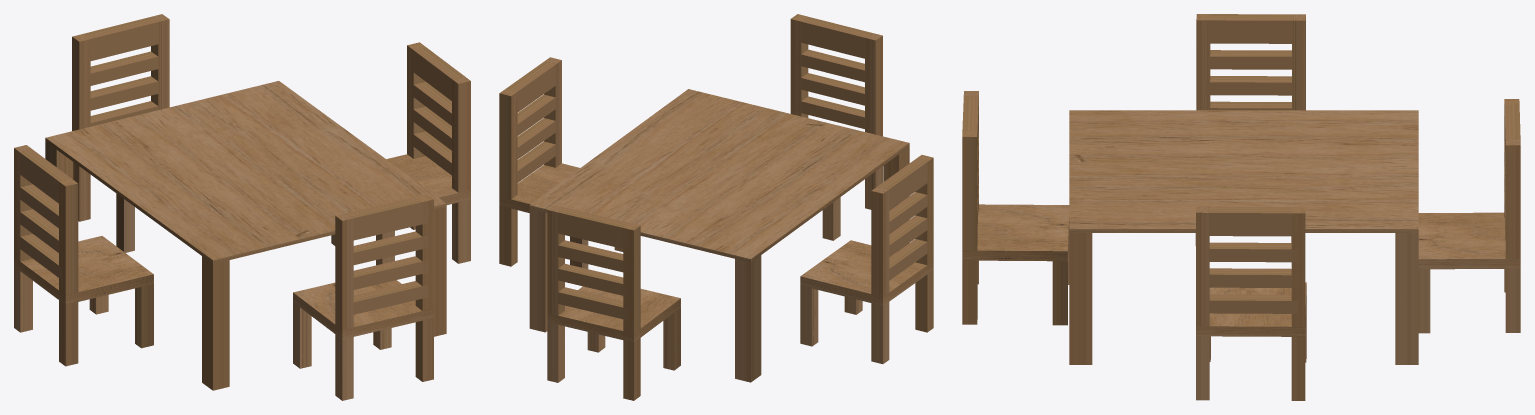
The model's file is Dining_Table.glb.
3 renders of one model, left to right at view 1: azimuth 30°, elevation 25°; view 2: azimuth 150°, elevation 25°; view 3: azimuth 270°, elevation 25°, orthographic. The views are drawn at different scales.
Parts seen in each view (by area): view 1: Cube, Cube.003, Cube.004, Cube.001, Cube.002; view 2: Cube, Cube.002, Cube.004, Cube.001, Cube.003; view 3: Cube, Cube.001, Cube.003, Cube.002, Cube.004.
Boxes of the visible parts, bbox=[...] form: Cube: bbox=[45, 81, 446, 390]; Cube.003: bbox=[293, 194, 433, 400]; Cube.004: bbox=[14, 145, 153, 366]; Cube.001: bbox=[331, 42, 470, 265]; Cube.002: bbox=[72, 14, 169, 252]; Cube: bbox=[529, 89, 909, 382]; Cube.002: bbox=[547, 205, 680, 400]; Cube.004: bbox=[800, 155, 933, 363]; Cube.001: bbox=[499, 57, 623, 268]; Cube.003: bbox=[790, 14, 882, 240]; Cube: bbox=[1069, 110, 1418, 364]; Cube.001: bbox=[1196, 206, 1306, 400]; Cube.003: bbox=[962, 91, 1069, 325]; Cube.002: bbox=[1418, 99, 1520, 333]; Cube.004: bbox=[1195, 14, 1305, 245].
Bounding box in the file's own units: 32.3 × 14.42 × 36.9.
Materials: 1 (1 with a texture image).
